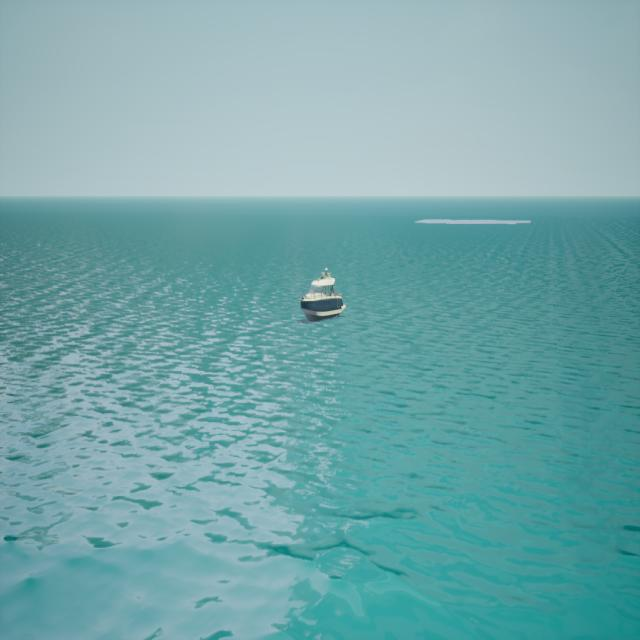ship: (299, 266, 345, 320)
